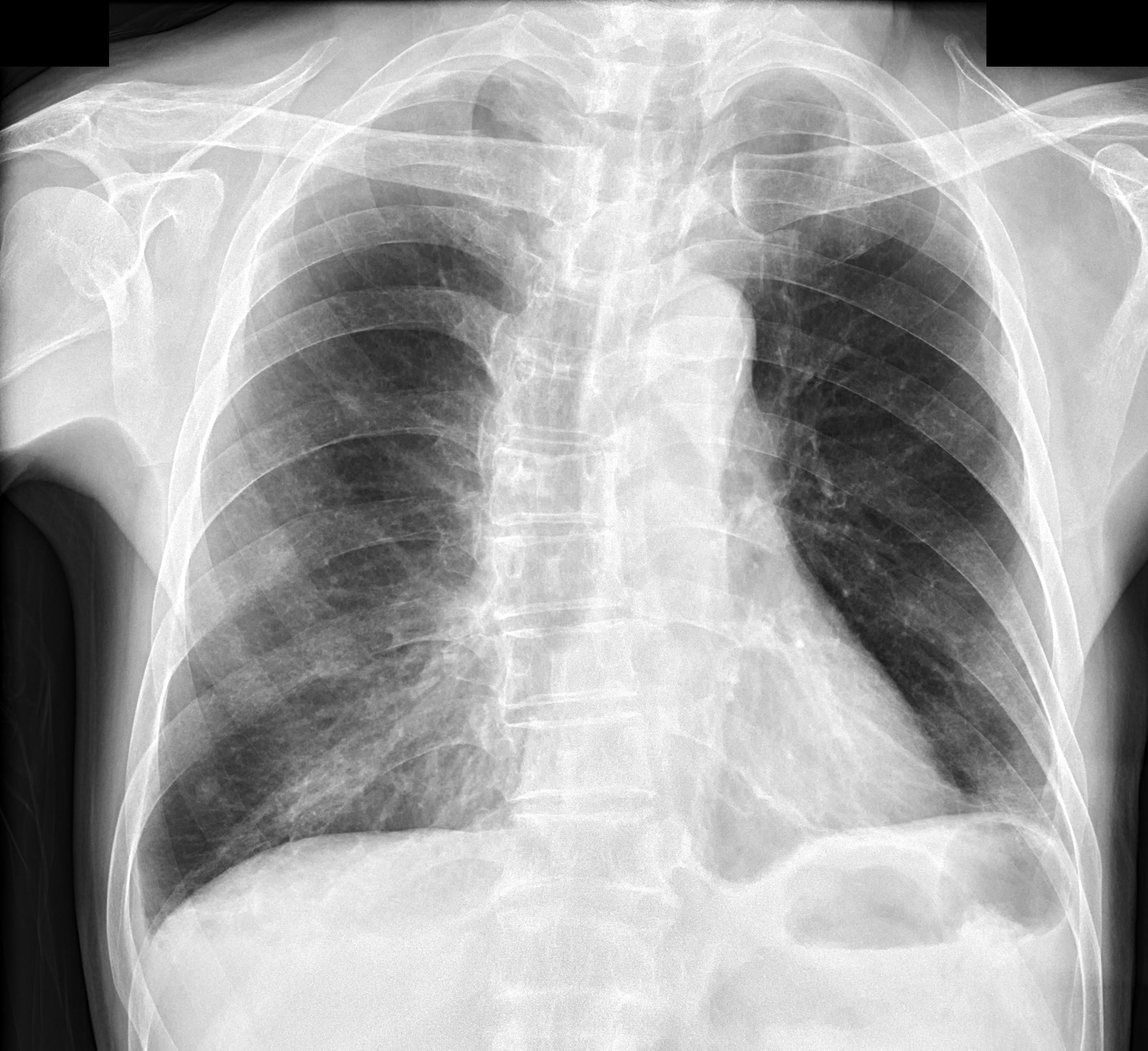Aortic enlargement: (642, 273, 759, 397)
Pleural thickening: (381, 53, 580, 116), (99, 837, 166, 982), (710, 58, 862, 103)
